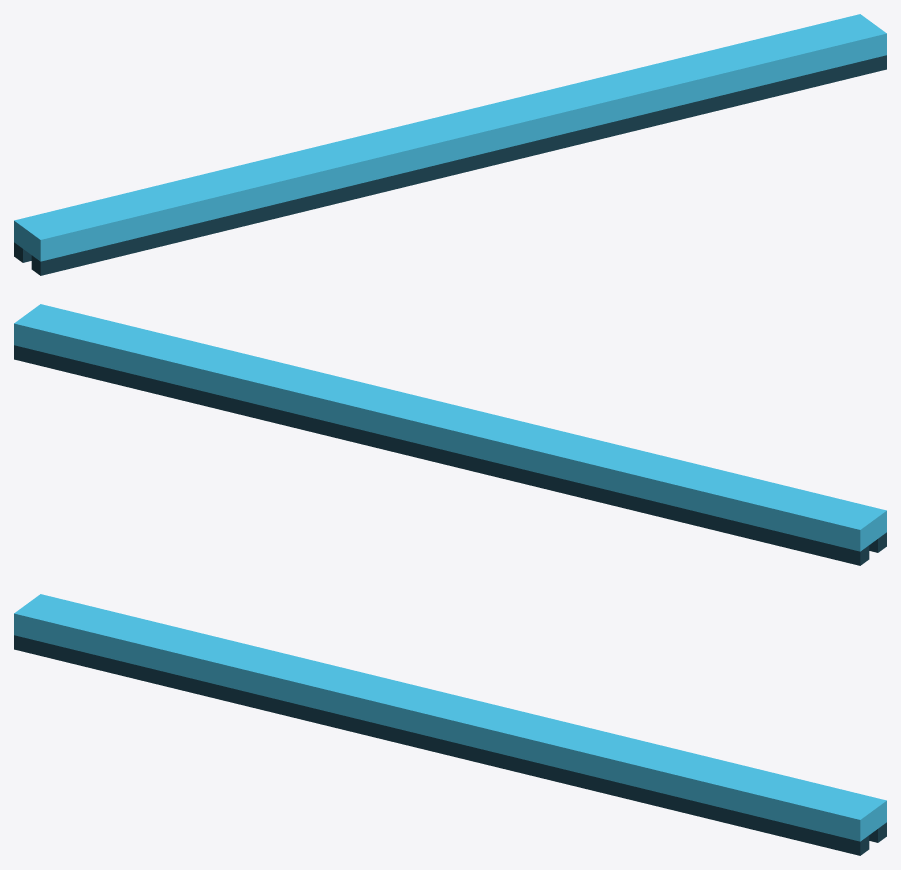
File: DikenliDuvarMekanizma.fbx
The picture shows the model from 3 angles, top to bottom: view 1: azimuth 30°, elevation 25°; view 2: azimuth 150°, elevation 25°; view 3: azimuth 330°, elevation 25°; orthographic projection.
Visible parts, largest first — view 1: Cube.006; view 2: Cube.006; view 3: Cube.006.
Part boxes in pixels (bbox=[...]): Cube.006: bbox=[14, 14, 886, 275]; Cube.006: bbox=[14, 304, 886, 565]; Cube.006: bbox=[14, 594, 886, 855].
Bounding box in the file's own units: 3668 × 149 × 200.
